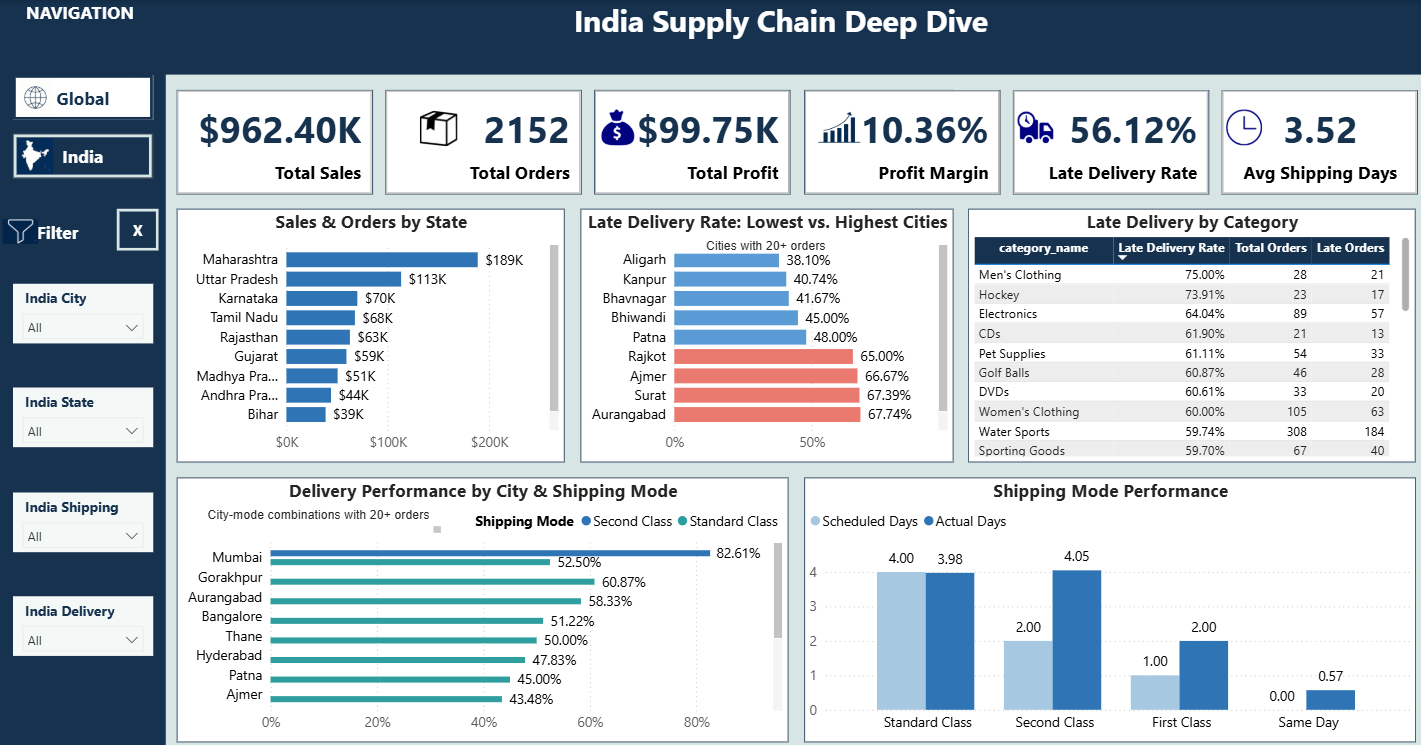

What the dashboard file says about the page in this screenshot:
{"tool":"powerbi","page":{"name":"India","canvas":[1540,800],"ordinal":2},"visuals":[{"type":"cardVisual","title":"Total Sales","fields":{"Data":["Sum(Orders.sales)"]},"box":[192,96,210,112],"z":0},{"type":"cardVisual","title":"Total orders","fields":{"Data":["Orders.Total Orders"]},"box":[416,96,210,112],"z":1000},{"type":"cardVisual","title":"Total Profit","fields":{"Data":["Sum(Orders.benefit_per_order)"]},"box":[640,96,210,112],"z":2000},{"type":"cardVisual","title":"Profit Margin","fields":{"Data":["Orders.Profit Margin"]},"box":[864,96,210,112],"z":3000},{"type":"cardVisual","title":"Late Delivery %","fields":{"Data":["Avg(Orders.late_delivery_risk)"]},"box":[1088,96,210,112],"z":4000},{"type":"cardVisual","title":"Average Shipping Days","fields":{"Data":["Avg(Orders.days_for_shipping_real)"]},"box":[1312,96,210,112],"z":5000},{"type":"clusteredBarChart","title":"Sales & Orders by State","fields":{"Category":["Orders.order_state"],"Y":["Sum(Orders.sales)"]},"box":[192,224,416,272],"z":6000},{"type":"clusteredBarChart","title":"Late Delivery Rate: Lowest vs. Highest Cities","fields":{"Category":["Orders.order_city"],"Y":["Orders.Best Worst City Rate"]},"box":[624,224,400,272],"z":7000},{"type":"clusteredColumnChart","title":"Shipping Mode Performance","fields":{"Category":["Orders.shipping_mode"],"Y":["Avg(Orders.days_for_shipment_scheduled)","Avg(Orders.days_for_shipping_real)"]},"box":[864,512,656,284],"z":8000},{"type":"clusteredBarChart","title":"Delivery Performance by City & Shipping Mode","fields":{"Category":["Orders.order_city"],"Y":["Orders.Late Delivery Rate"],"Series":["Orders.shipping_mode"]},"box":[192,512,656,284],"z":9000},{"type":"tableEx","title":"Late Delivery by Category","fields":{"Values":["Products.category_name","Orders.Late Delivery Rate","Orders.Total Orders","Orders.Late Orders"]},"box":[1040,224,480,272],"z":10000},{"type":"shape","title":"NAVIGATION","box":[0,0,180,800],"z":11000},{"type":"actionButton","box":[16,80,150,48],"z":12000},{"type":"actionButton","box":[16,144,150,48],"z":13000},{"type":"actionButton","box":[0,224,128,48],"z":14000},{"type":"slicer","fields":{"Values":["Orders.order_city"]},"box":[16,304,150,64],"z":15000},{"type":"slicer","fields":{"Values":["Orders.order_state"]},"box":[16,416,150,64],"z":16000},{"type":"slicer","fields":{"Values":["Orders.shipping_mode"]},"box":[16,528,150,64],"z":17000},{"type":"slicer","fields":{"Values":["Orders.delivery_status"]},"box":[16,640,150,64],"z":18000},{"type":"actionButton","box":[128,224,45,45],"z":19000},{"type":"textbox","title":"India Supply Chain Deep Dive","box":[144,0,1392,80],"z":20000},{"type":"image","box":[448,112,50,50],"z":21000},{"type":"image","box":[624,112,80,48],"z":22000},{"type":"image","box":[864,96,75,80],"z":23000},{"type":"image","box":[1088,112,48,48],"z":24000},{"type":"image","box":[1312,112,48,48],"z":25000},{"type":"textbox","title":"Cities with 20+ orders","box":[640,256,368,16],"z":26000},{"type":"textbox","title":"City-mode combinations with 20+ orders","box":[208,544,272,32],"z":27000},{"type":"image","box":[16,144,48,48],"z":28000},{"type":"image","box":[0,224,48,48],"z":29000},{"type":"image","box":[16,80,48,48],"z":30000},{"type":"textbox","title":"NAVIGATION","box":[0,0,176,64],"z":31000}]}

Visuals, with their boxes in screenshot pixels (x1, y1, x2, y2), scaled from the page's 1540x800 canvas onto the 1421x745 screenshot:
"Total Sales" cardVisual: (177, 89, 371, 194)
"Total orders" cardVisual: (384, 89, 578, 194)
"Total Profit" cardVisual: (591, 89, 784, 194)
"Profit Margin" cardVisual: (797, 89, 991, 194)
"Late Delivery %" cardVisual: (1004, 89, 1198, 194)
"Average Shipping Days" cardVisual: (1211, 89, 1404, 194)
"Sales & Orders by State" clusteredBarChart: (177, 209, 561, 462)
"Late Delivery Rate: Lowest vs. Highest Cities" clusteredBarChart: (576, 209, 945, 462)
"Shipping Mode Performance" clusteredColumnChart: (797, 477, 1403, 741)
"Delivery Performance by City & Shipping Mode" clusteredBarChart: (177, 477, 782, 741)
"Late Delivery by Category" tableEx: (960, 209, 1403, 462)
"NAVIGATION" shape: (0, 0, 166, 744)
actionButton: (15, 74, 153, 119)
actionButton: (15, 134, 153, 179)
actionButton: (0, 209, 118, 253)
slicer - Orders.order_city: (15, 283, 153, 343)
slicer - Orders.order_state: (15, 387, 153, 447)
slicer - Orders.shipping_mode: (15, 492, 153, 551)
slicer - Orders.delivery_status: (15, 596, 153, 656)
actionButton: (118, 209, 160, 251)
"India Supply Chain Deep Dive" textbox: (133, 0, 1417, 74)
image: (413, 104, 460, 151)
image: (576, 104, 650, 149)
image: (797, 89, 866, 164)
image: (1004, 104, 1048, 149)
image: (1211, 104, 1255, 149)
"Cities with 20+ orders" textbox: (591, 238, 930, 253)
"City-mode combinations with 20+ orders" textbox: (192, 507, 443, 536)
image: (15, 134, 59, 179)
image: (0, 209, 44, 253)
image: (15, 74, 59, 119)
"NAVIGATION" textbox: (0, 0, 162, 60)
